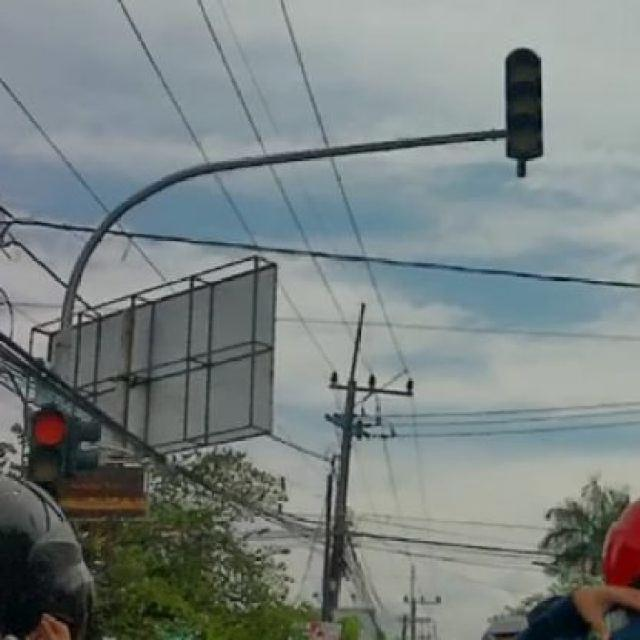Red: (26, 398, 80, 512)
